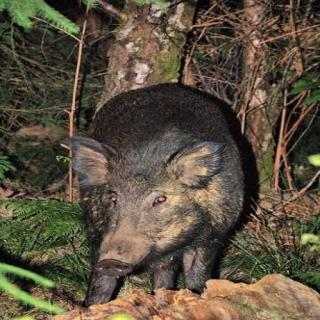Pig: (52, 62, 254, 311)
